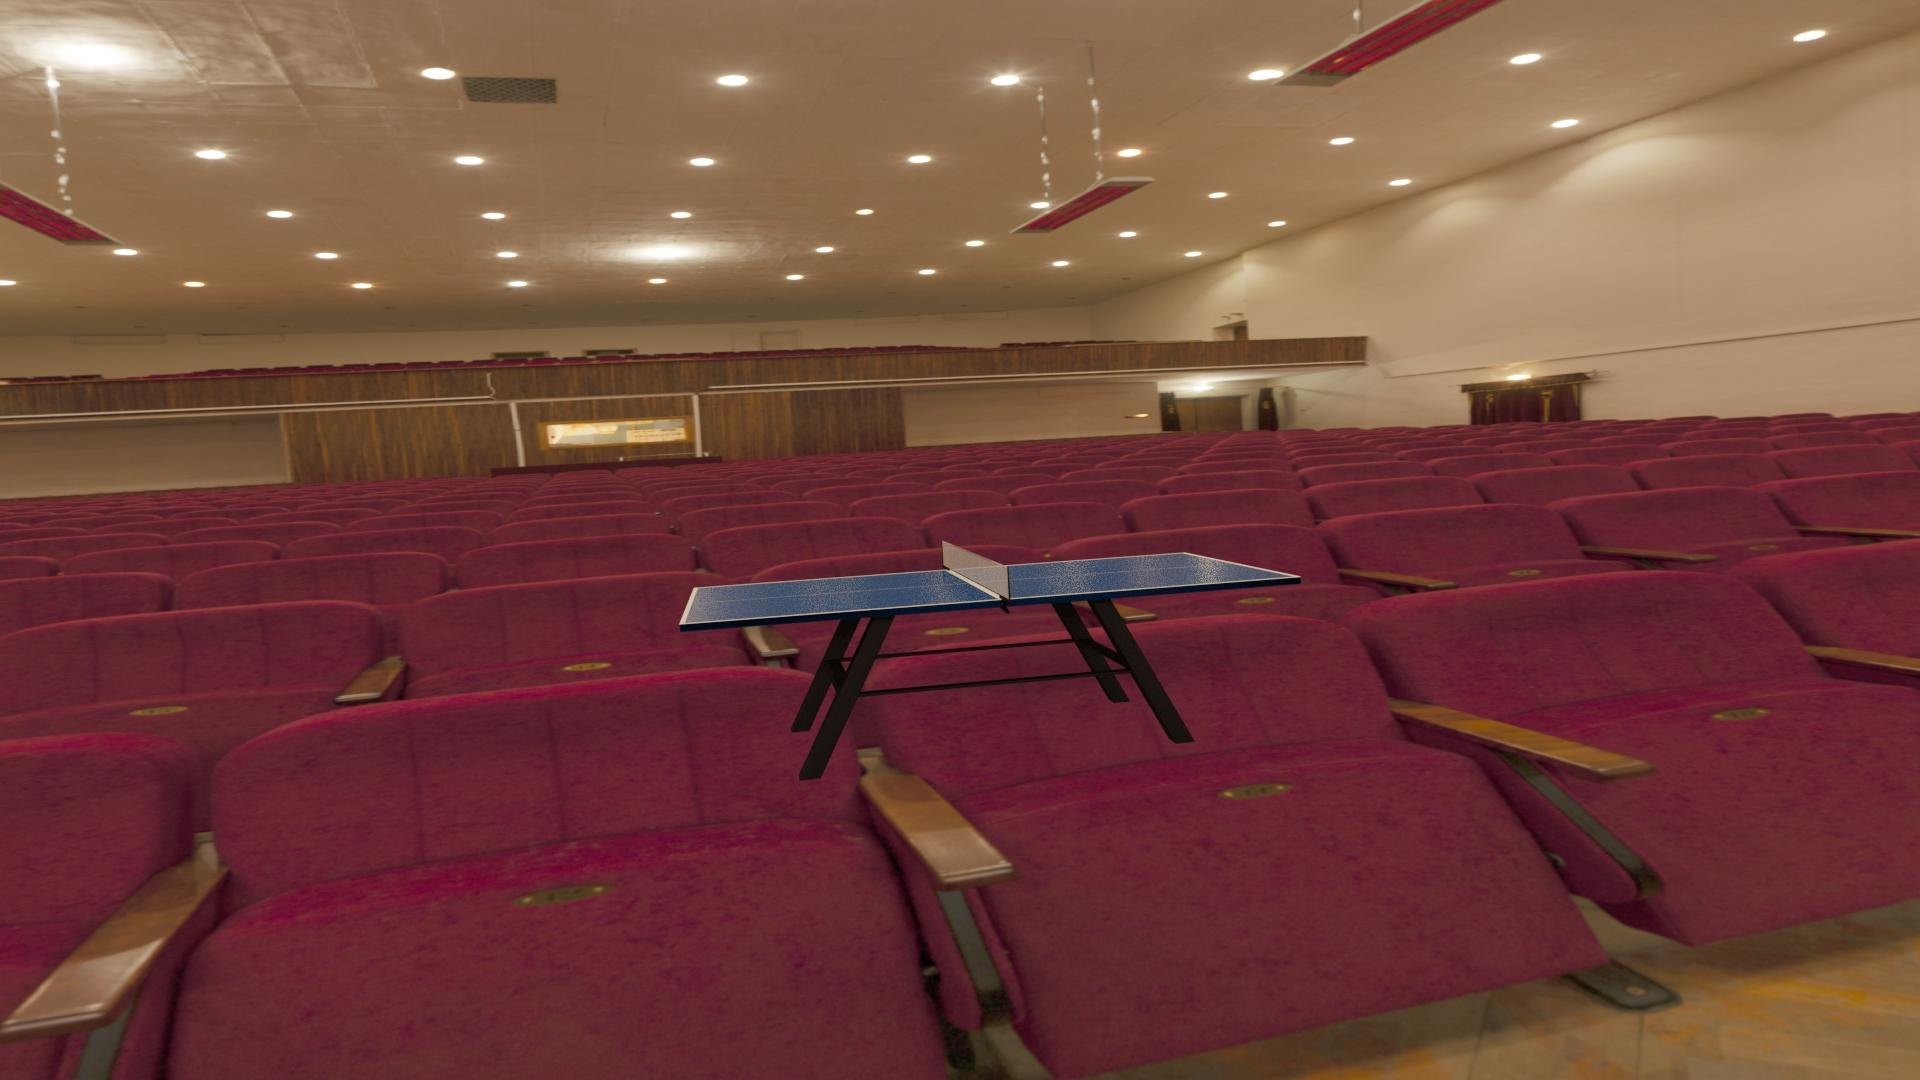table: (684, 553, 1295, 624)
